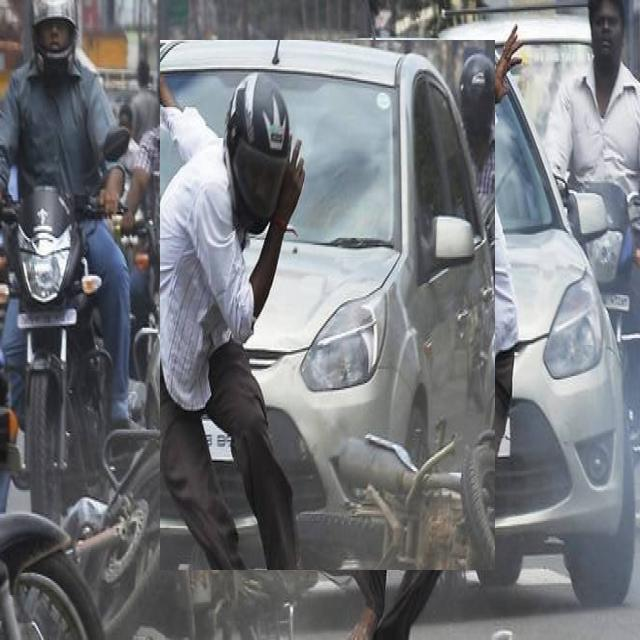accident: (65, 431, 313, 638)
car: (160, 40, 494, 570), (461, 80, 631, 605)
motorcycle: (0, 0, 130, 521), (545, 0, 640, 446)
